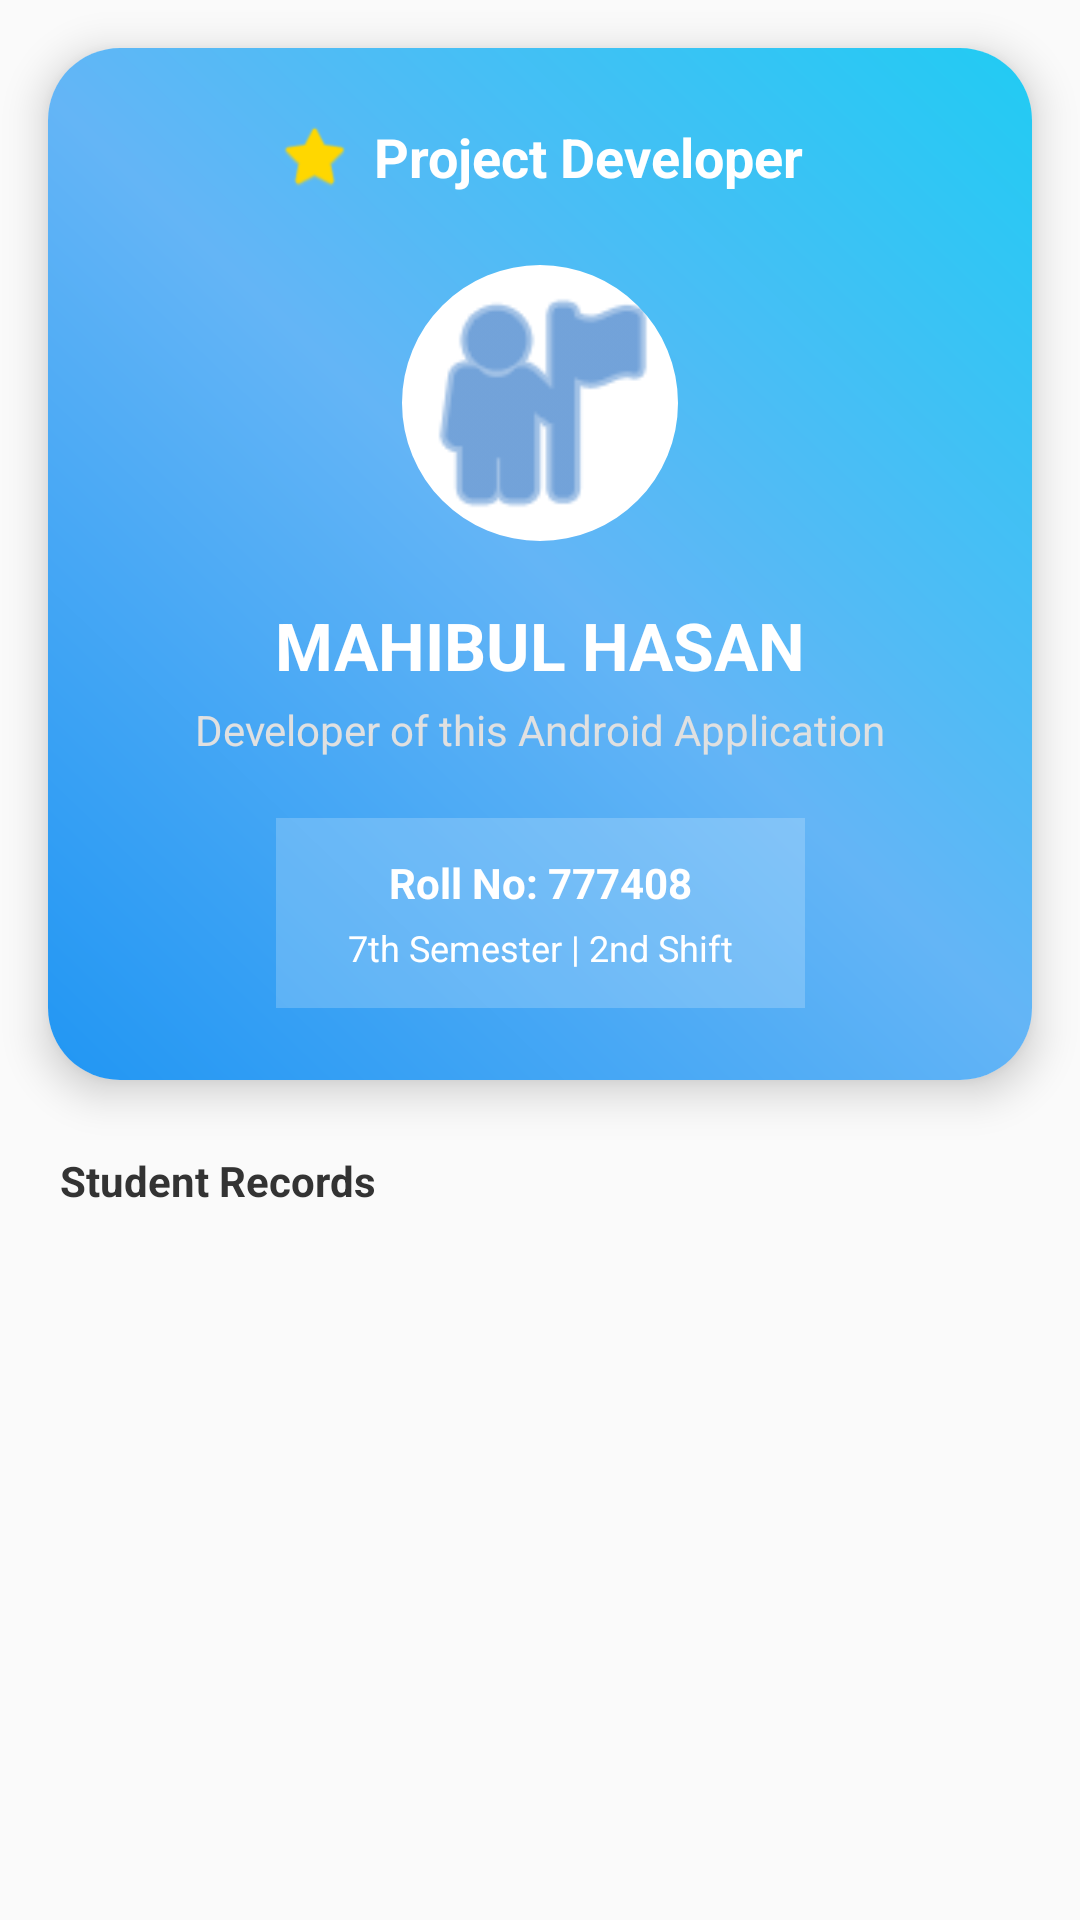

Screen size 1080*1920. Icon name, then its center in pixels as point (x, y):
star on: point (314, 156)
